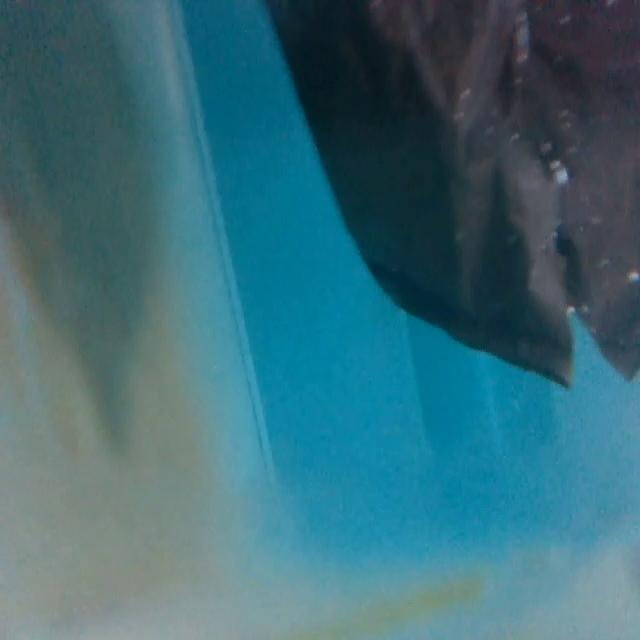plastic bags: (261, 0, 640, 400)
